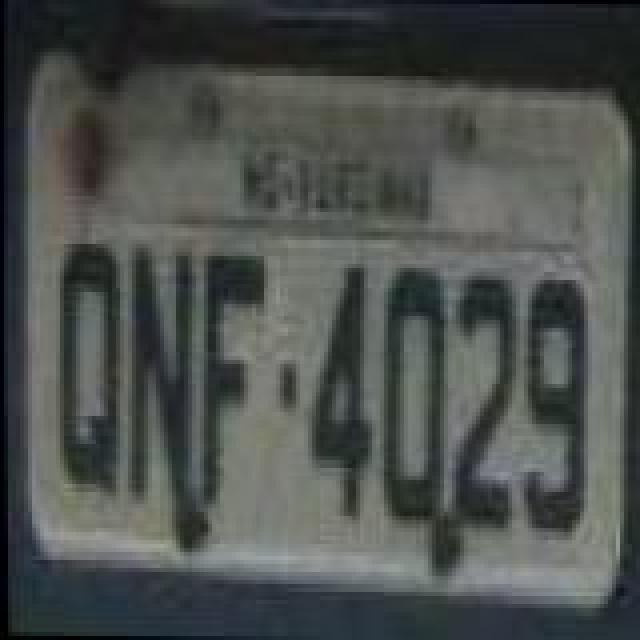2: (446, 274, 518, 530)
4: (302, 258, 374, 526)
9: (518, 278, 590, 546)
F: (194, 248, 274, 516)
N: (128, 240, 200, 508)
O: (370, 264, 450, 532)
Q: (56, 244, 128, 500)
